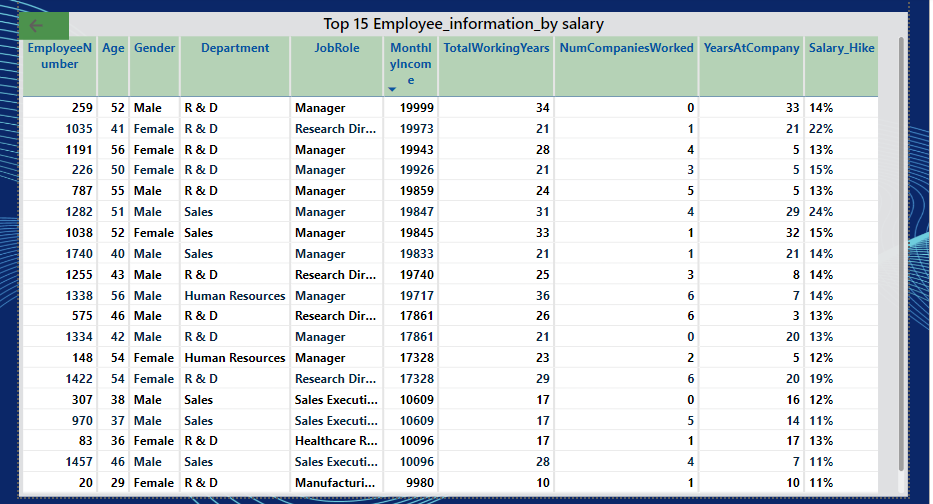

The dashboard page shown, as its layout file describes it:
{"tool":"powerbi","page":{"name":"Top 15_emp_info","canvas":[1280,720],"ordinal":2},"visuals":[{"type":"tableEx","title":"Top 15 Employee_information","fields":{"Values":["HR-Employee-Attrition.EmployeeNumber","HR-Employee-Attrition.Age","HR-Employee-Attrition.Gender","HR-Employee-Attrition.Department","HR-Employee-Attrition.JobRole","HR-Employee-Attrition.MonthlyIncome","HR-Employee-Attrition.TotalWorkingYears","HR-Employee-Attrition.NumCompaniesWorked","HR-Employee-Attrition.YearsAtCompany","HR-Employee-Attrition.Salary_Hike"]},"box":[0,21.6,1280.2,698.4],"z":0},{"type":"actionButton","box":[0,21.6,72,40.3],"z":1000}]}

Visuals, with their boxes on the page's 1280x720 design canvas (x1, y1, x2, y2). These are canvas units, not pixel positions in the 933x504 screenshot, which may show the page scaled, cropped or inside an application window:
"Top 15 Employee_information" tableEx: detection(0, 22, 1280, 720)
actionButton: detection(0, 22, 72, 62)
